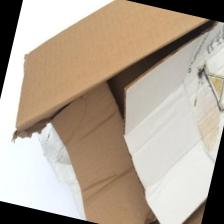Kertas: (14, 0, 216, 224)
